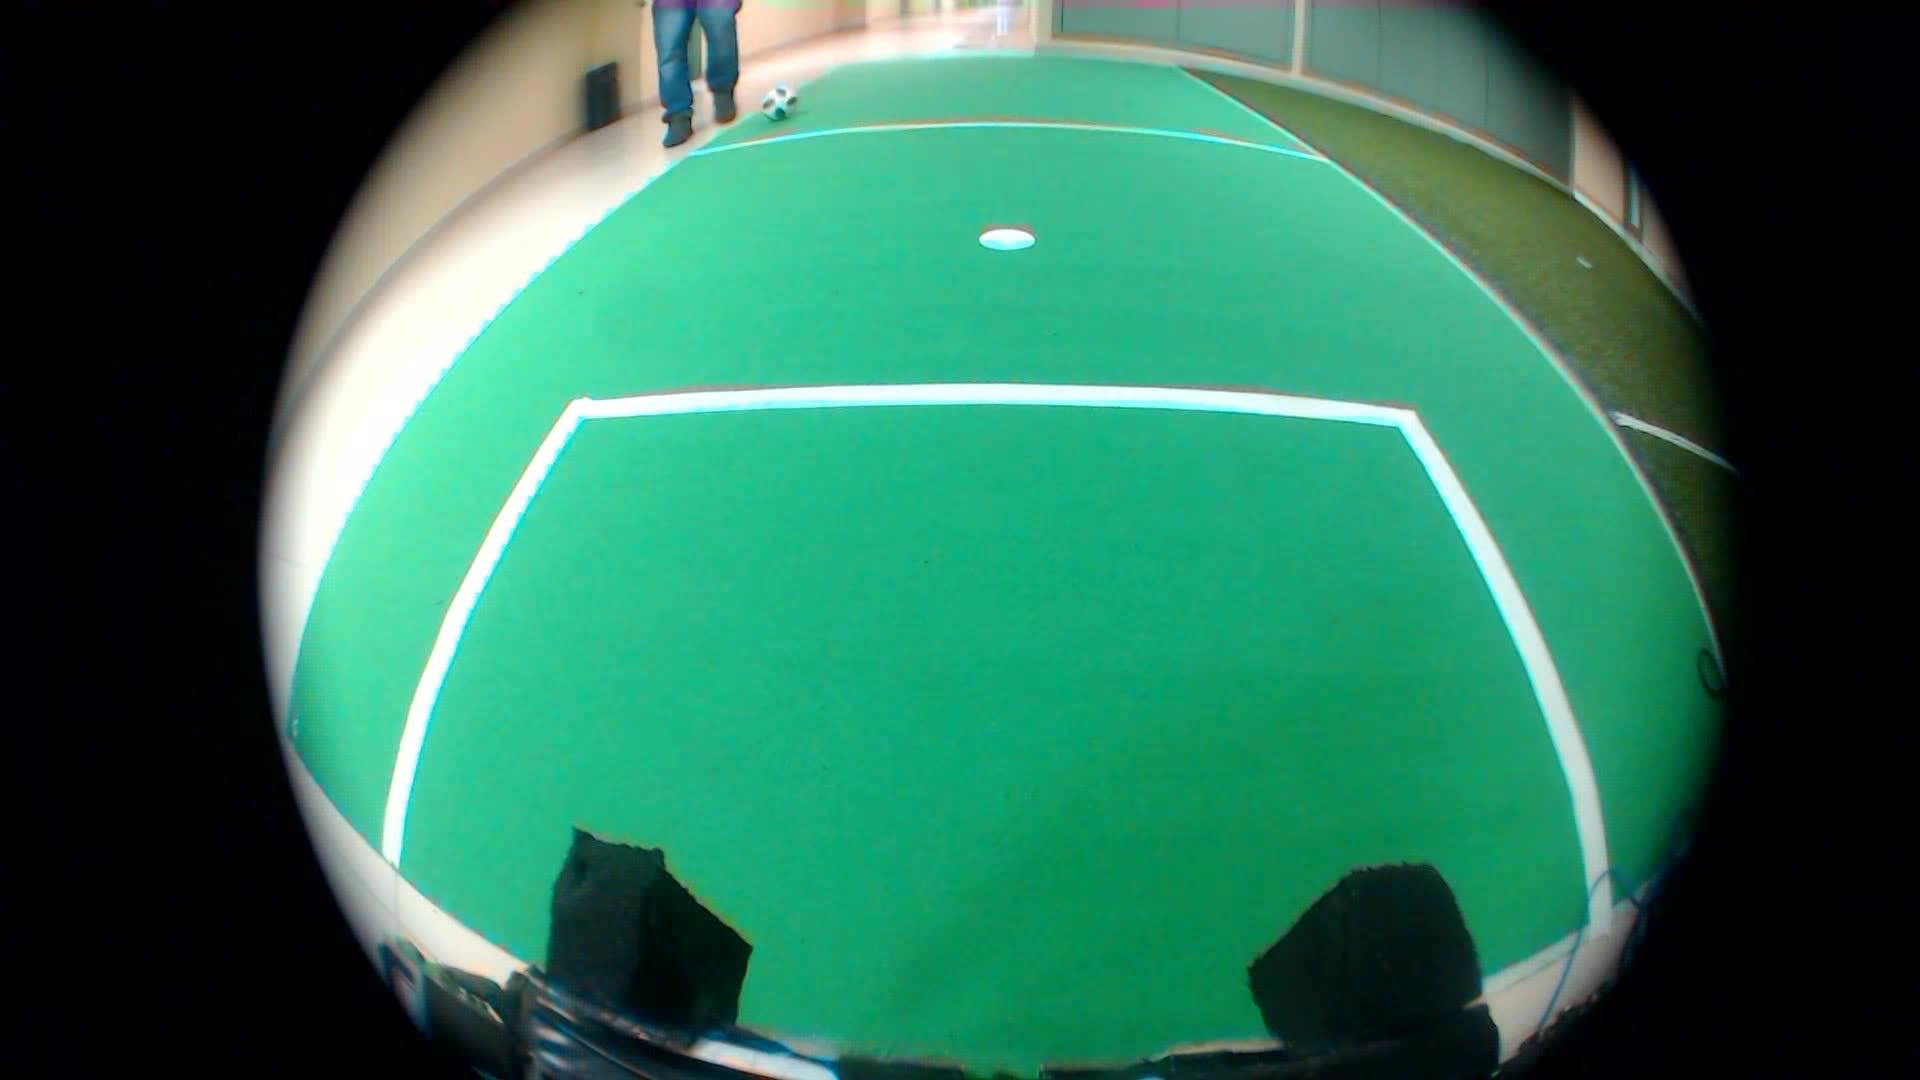ball: (760, 78, 804, 129)
